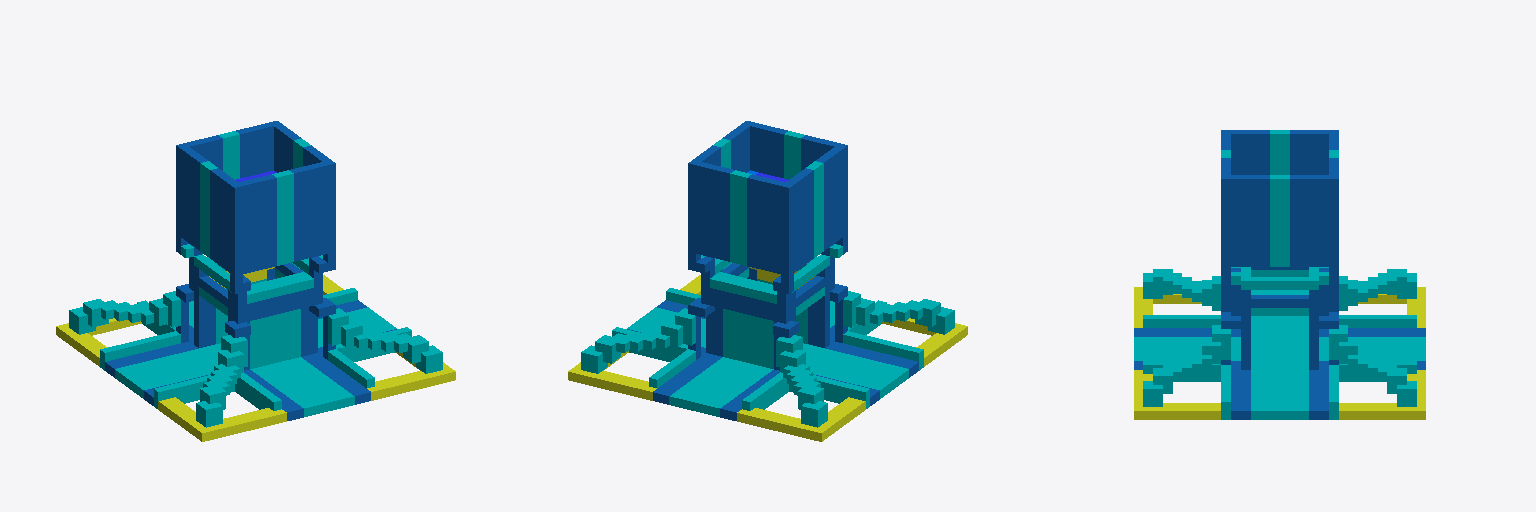
The picture shows the model from 3 angles: view 1: azimuth 30°, elevation 25°; view 2: azimuth 150°, elevation 25°; view 3: azimuth 270°, elevation 25°; orthographic projection.
Bounding box in the file's own units: 30 × 23 × 30.
Materials: 1 (1 with a texture image).